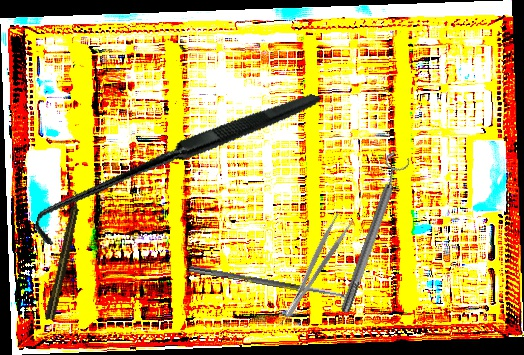Dressing Forceps: (273, 209, 356, 322)
Fixation Ring: (331, 149, 413, 317)
Handpiece: (43, 190, 85, 322)
Hook Surgical: (30, 28, 322, 308)
Surgical Spoon: (188, 265, 353, 302)
